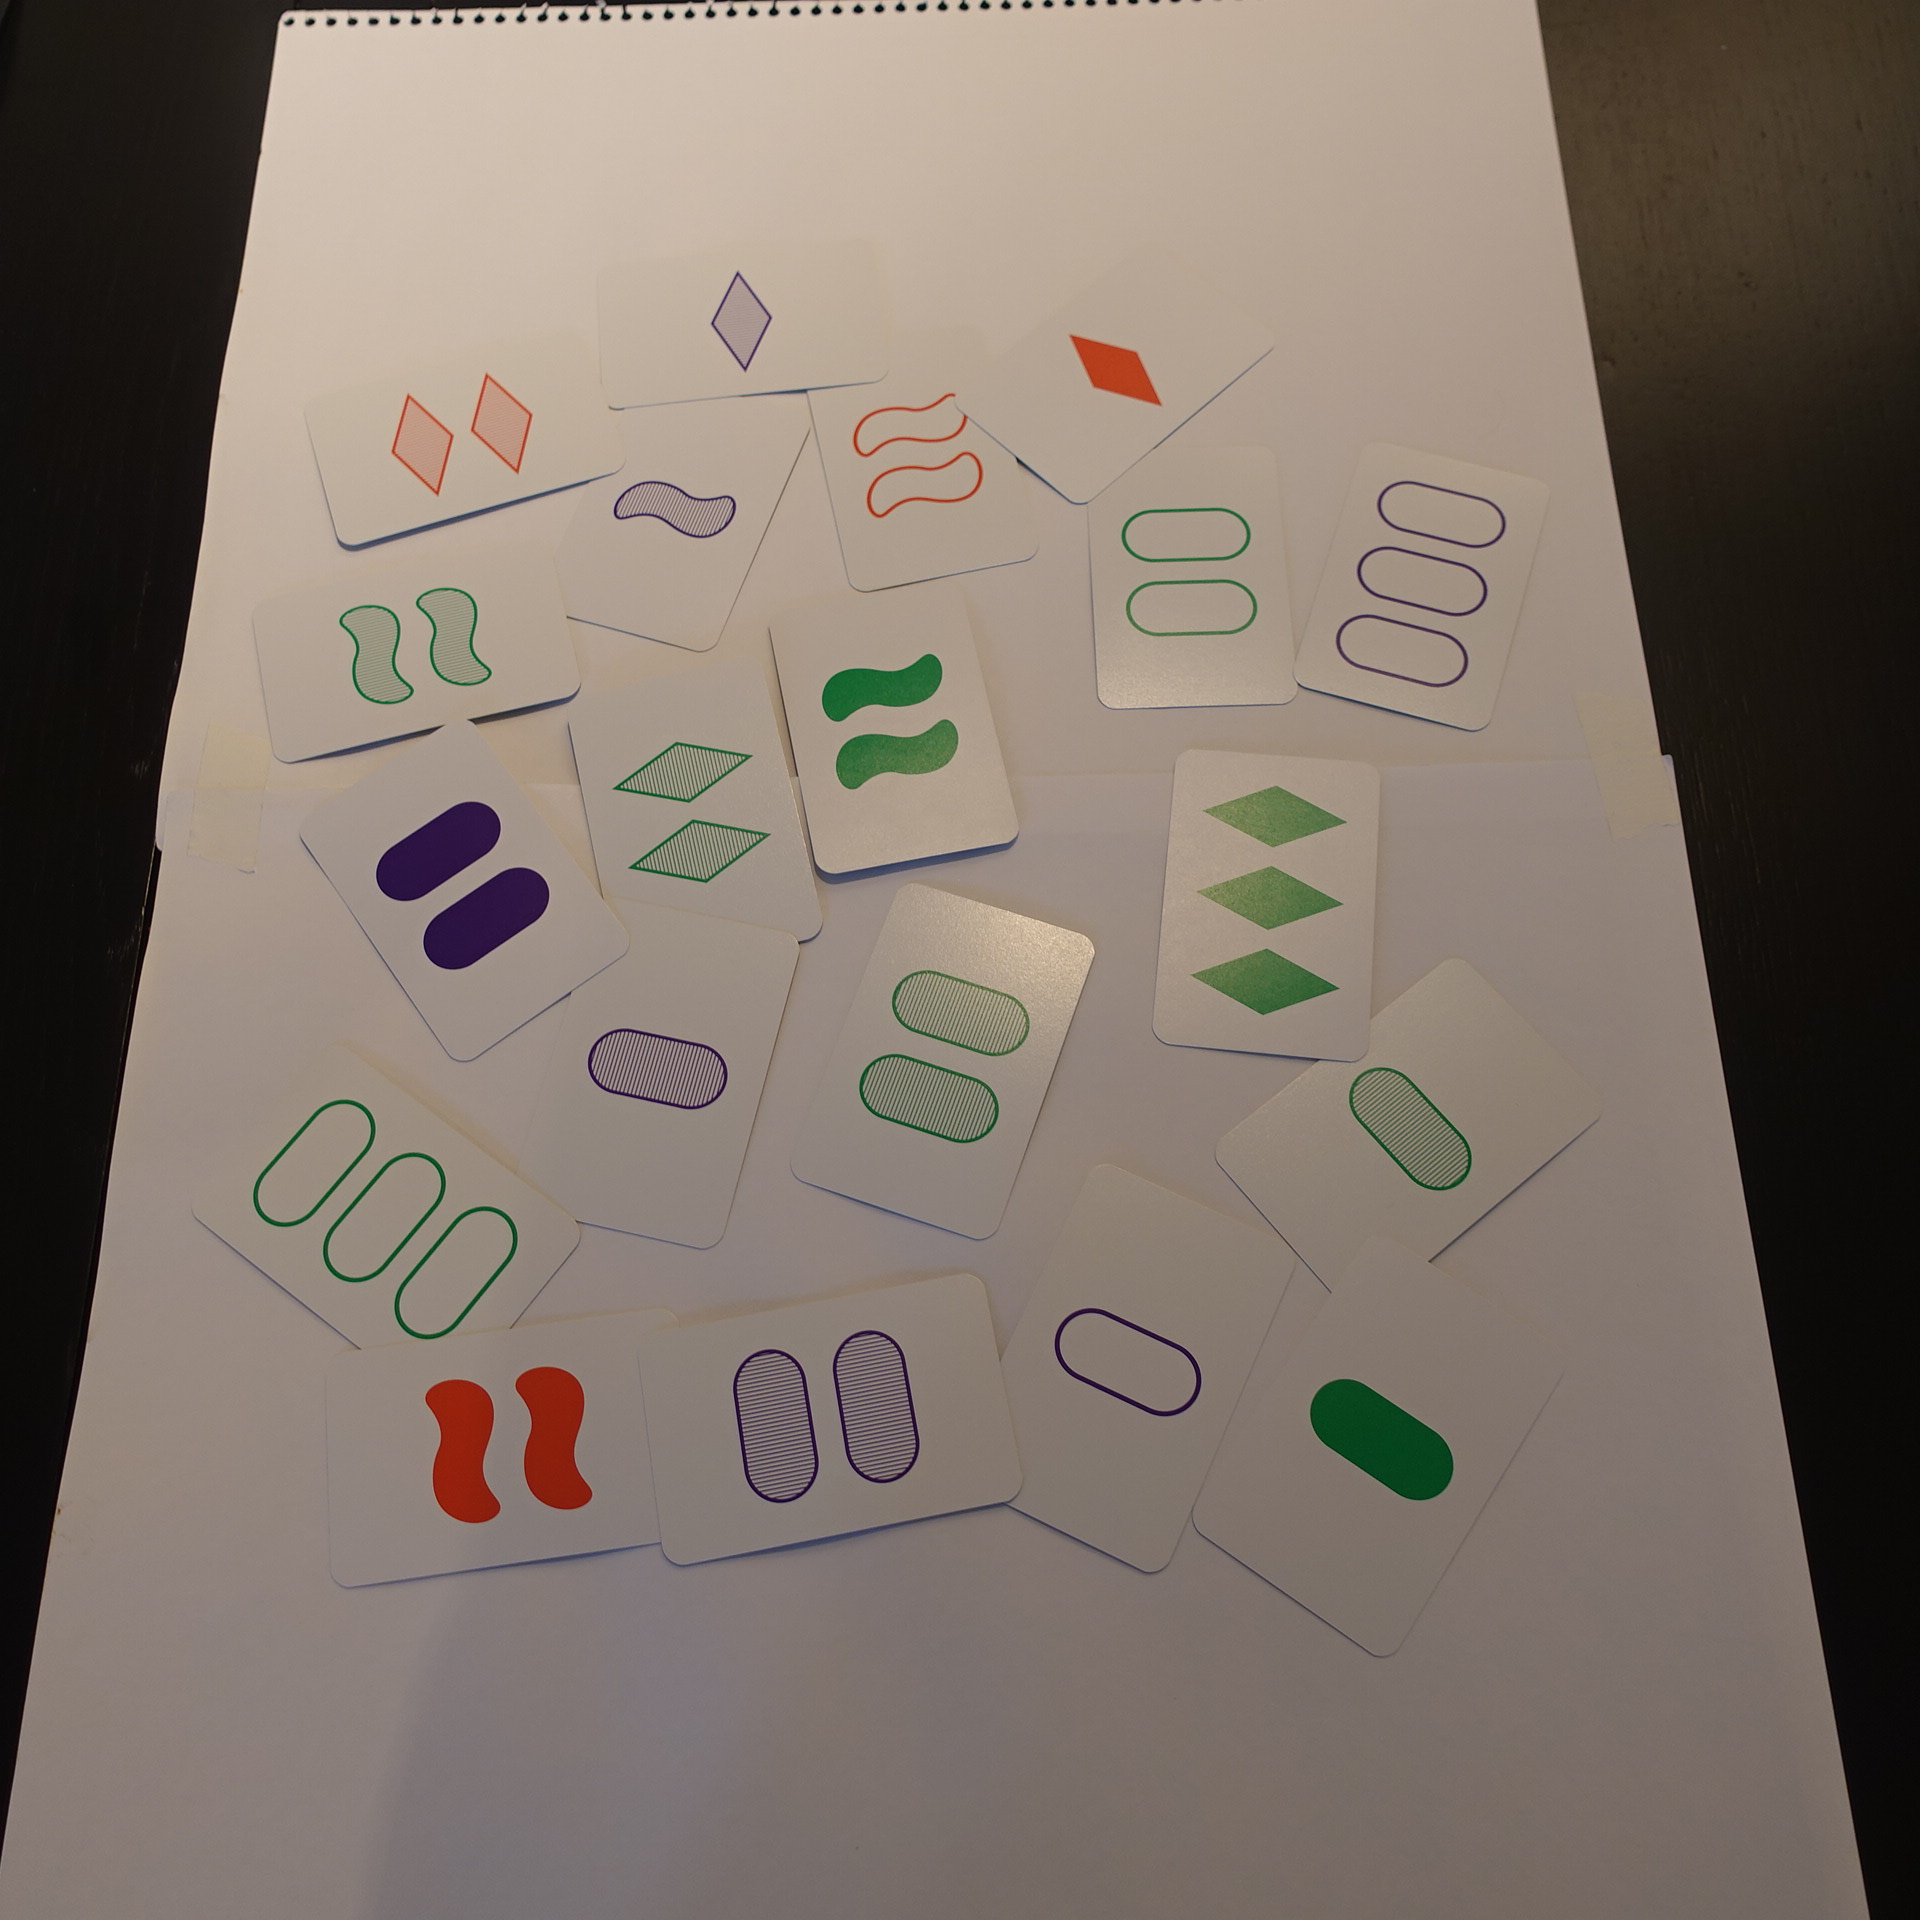c-1-f-d-r: (955, 239, 1289, 512)
c-1-f-o-g: (1187, 1233, 1579, 1667)
c-1-h-d-p: (527, 371, 823, 665), (587, 229, 904, 418)
c-1-h-o-g: (1204, 948, 1614, 1308)
c-1-h-o-p: (510, 895, 811, 1257)
c-1-u-o-p: (958, 1150, 1305, 1582)
c-2-f-d-g: (760, 577, 1029, 884)
c-2-f-d-r: (308, 1303, 709, 1598)
c-2-f-o-p: (287, 710, 644, 1069)
c-2-h-d-g: (243, 538, 591, 774), (556, 665, 833, 958)
c-2-h-d-r: (295, 325, 636, 554)
c-2-h-o-g: (777, 876, 1106, 1248)
c-2-h-o-p: (629, 1257, 1034, 1579)
c-2-u-d-r: (793, 308, 1051, 603)
c-2-u-o-g: (1073, 438, 1306, 716)
c-3-f-d-g: (1143, 737, 1389, 1069)
c-3-u-o-g: (179, 1029, 591, 1396)
c-3-u-o-p: (1285, 433, 1565, 742)
